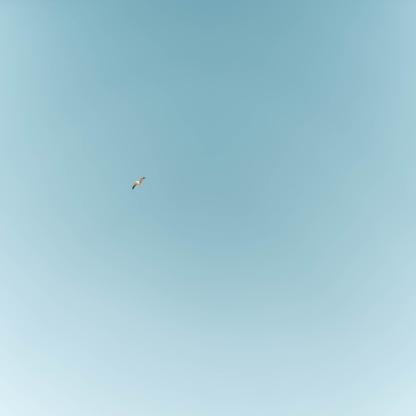bird: (132, 176, 146, 190)
